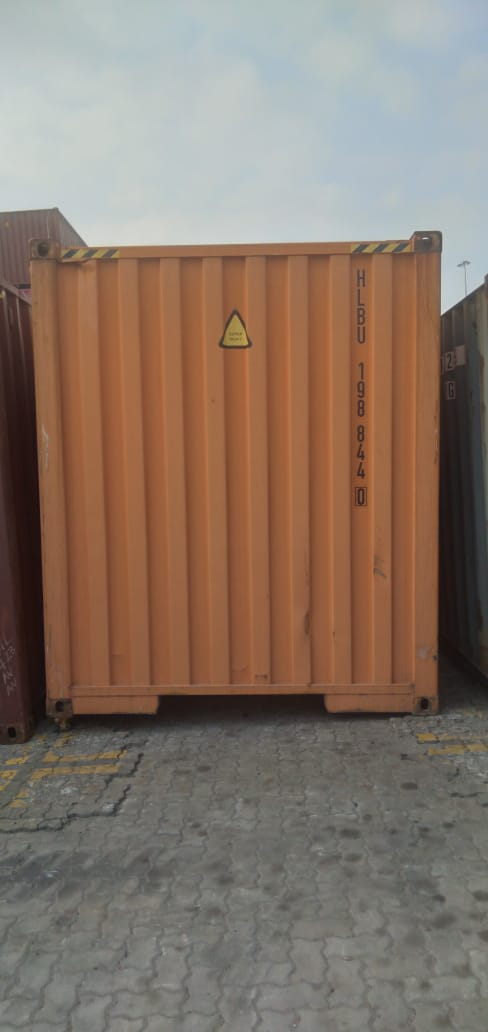dented: (290, 600, 319, 643)
